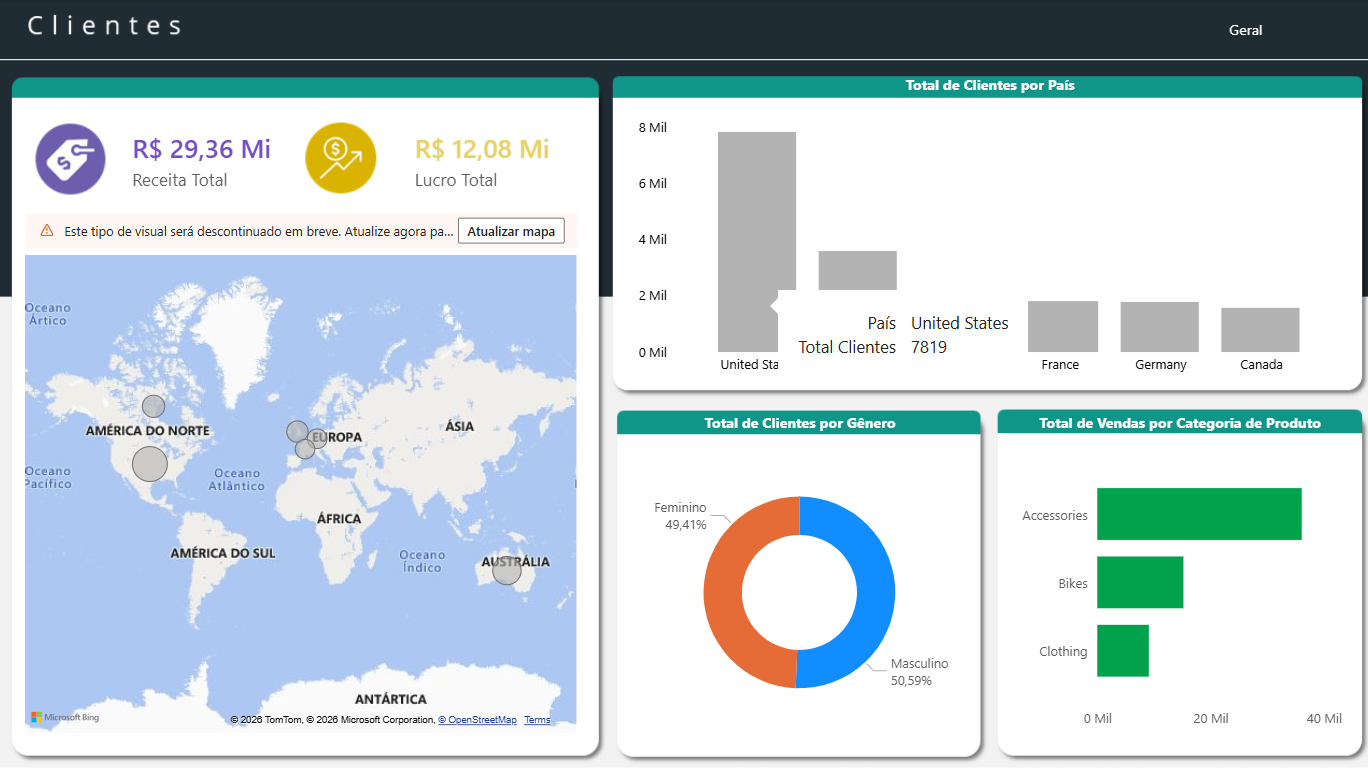

What the dashboard file says about the page in this screenshot:
{"tool":"powerbi","page":{"name":"CLIENTES","canvas":[1280,720],"ordinal":2},"visuals":[{"type":"cardVisual","title":"Receita Total","fields":{"Data":["Sum(RESULTADOS_ADW.RECEITA VENDA)"]},"box":[107.5,107.5,173.8,90],"z":0},{"type":"cardVisual","title":"Receita Total","fields":{"Data":["Sum(RESULTADOS_ADW.LUCRO VENDA)"]},"box":[370,107.5,161.2,90],"z":1000},{"type":"map","fields":{"Category":["RESULTADOS_ADW.PAÍS"],"Size":["Sum(RESULTADOS_ADW.QTD. VENDIDA)"]},"box":[19.8,196.5,523.3,493],"z":2000},{"type":"clusteredColumnChart","fields":{"Category":["RESULTADOS_ADW.PAÍS"],"Y":["Count(RESULTADOS_ADW.ID CLIENTE)"]},"box":[589.5,107,665.1,253.5],"z":3000},{"type":"textbox","box":[780.2,67.4,283.7,27.9],"z":4000},{"type":"donutChart","fields":{"Category":["RESULTADOS_ADW.GENERO"],"Y":["Count(RESULTADOS_ADW.ID CLIENTE)"]},"box":[589.5,418.6,310.5,270.9],"z":5000},{"type":"textbox","box":[603.5,381.4,283.7,27.9],"z":6000},{"type":"clusteredBarChart","fields":{"Category":["RESULTADOS_ADW.CATEGORIA PRODUTO"],"Y":["Sum(RESULTADOS_ADW.QTD. VENDIDA)"]},"box":[941.9,418.6,312.8,270.9],"z":7000},{"type":"textbox","box":[957,381.4,283.7,27.9],"z":8000},{"type":"actionButton","box":[1077.9,3.5,164,53.5],"z":8001}]}

Visuals, with their boxes in screenshot pixels (x1, y1, x2, y2), scaled from the page's 1280x720 canvas onto the 1368x770 screenshot:
"Receita Total" cardVisual: 115:115:301:211
"Receita Total" cardVisual: 395:115:568:211
map - RESULTADOS_ADW.PAÍS x Sum(RESULTADOS_ADW.QTD. VENDIDA): 21:210:580:737
clusteredColumnChart - RESULTADOS_ADW.PAÍS x Count(RESULTADOS_ADW.ID CLIENTE): 630:114:1341:386
textbox: 834:72:1137:102
donutChart - RESULTADOS_ADW.GENERO x Count(RESULTADOS_ADW.ID CLIENTE): 630:448:962:737
textbox: 645:408:948:438
clusteredBarChart - RESULTADOS_ADW.CATEGORIA PRODUTO x Sum(RESULTADOS_ADW.QTD. VENDIDA): 1007:448:1341:737
textbox: 1023:408:1326:438
actionButton: 1152:4:1327:61
